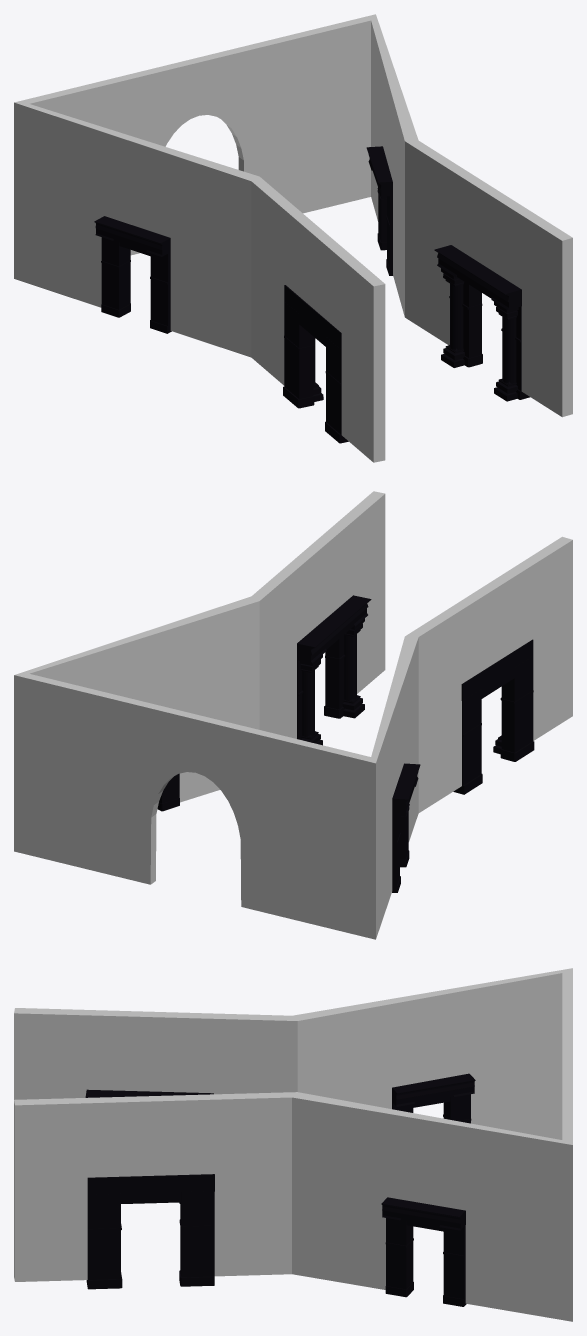
Rendered from SueloMuseoBlender.fbx.
The picture shows the model from 3 angles, top to bottom: view 1: azimuth 30°, elevation 25°; view 2: azimuth 150°, elevation 25°; view 3: azimuth 270°, elevation 25°; orthographic projection.
Visible parts, largest first — view 1: ParedesInternas, PuertasSecundarias, PuertasTerciarias; view 2: ParedesInternas, PuertasSecundarias, PuertasTerciarias; view 3: ParedesInternas, PuertasSecundarias, PuertasTerciarias.
Boxes of the visible parts, x1,y1,x2,y2 form: ParedesInternas: [14, 14, 572, 462]; PuertasSecundarias: [283, 245, 529, 443]; PuertasTerciarias: [94, 146, 392, 333]; ParedesInternas: [14, 491, 572, 939]; PuertasSecundarias: [297, 595, 534, 794]; PuertasTerciarias: [157, 763, 420, 892]; ParedesInternas: [14, 968, 572, 1321]; PuertasSecundarias: [85, 1089, 214, 1289]; PuertasTerciarias: [381, 1073, 475, 1306].
Size of the model in its own units: 14.79 by 7.2 by 19.74.
